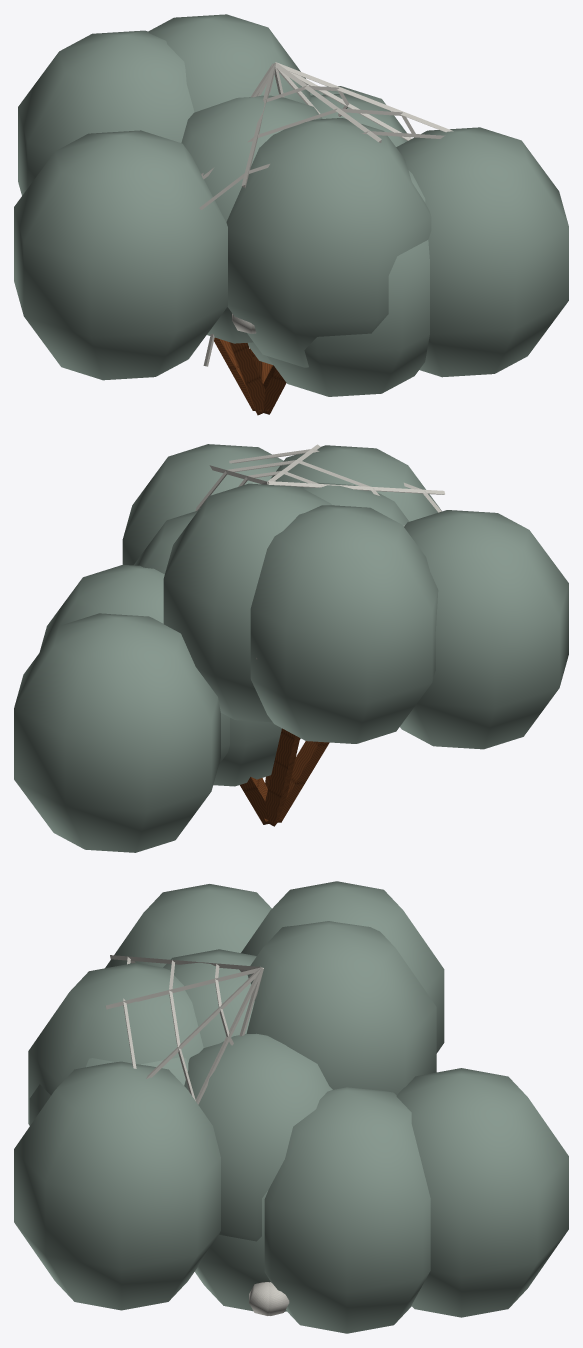
File: halloween-slasher-street-cobweb-draped-bush-3c31cb4b__27309.glb
3 renders of one model, top to bottom at view 1: azimuth 30°, elevation 25°; view 2: azimuth 150°, elevation 25°; view 3: azimuth 270°, elevation 25°, orthographic. The views are drawn at different scales.
Parts seen in each view (by area): view 1: cobweb-draped-bush; view 2: cobweb-draped-bush; view 3: cobweb-draped-bush.
Boxes of the visible parts, x1,y1,x2,y2 form: cobweb-draped-bush: (14, 14, 568, 415); cobweb-draped-bush: (14, 444, 568, 852); cobweb-draped-bush: (14, 881, 568, 1333).
Size of the model in its own units: 1.28 by 0.9426 by 1.28.
3 materials, 2 textured.
